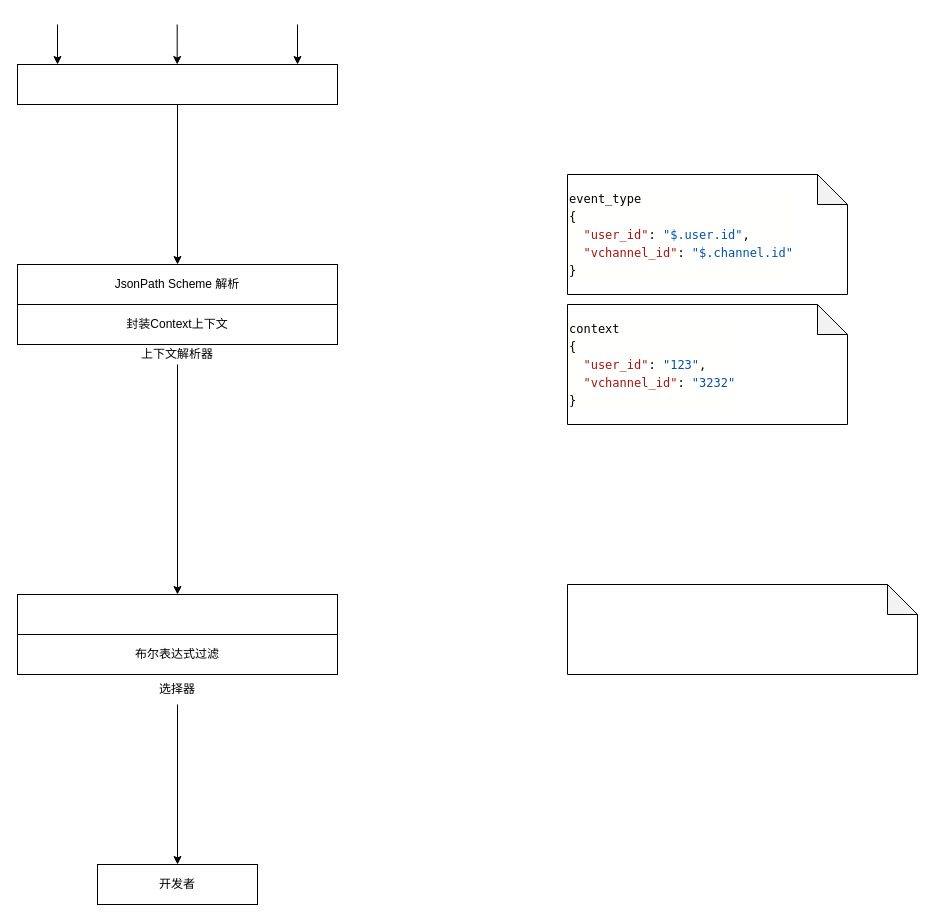
The diagram is 935 pixels wide and 922 high, and some of its shapes have lost their labels. Each missing label, with the centre of its shape:
el "user_id=123 and vchannel_id=3232 or xxxx": pixel 742 629
事件接收器: pixel 177 84
事件类型过滤: pixel 177 614
